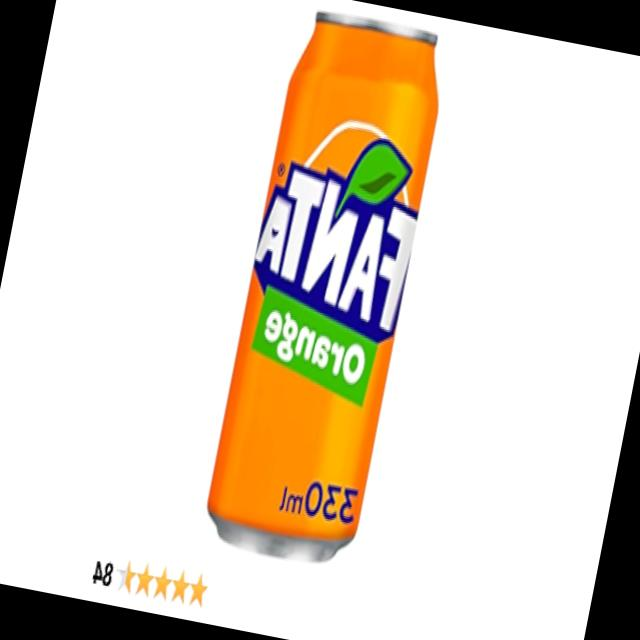fanta: (197, 8, 453, 579)
